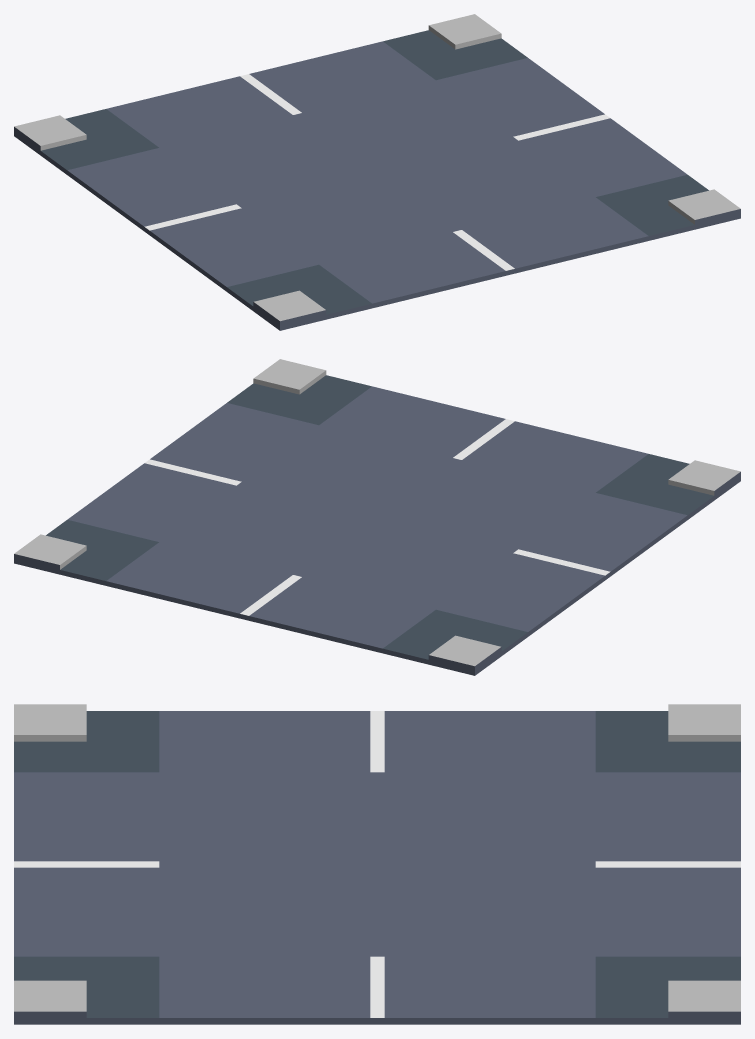
Rendered from SM_Road_Crossroad.fbx.
3 views of the same model, one above another, from view 1: azimuth 30°, elevation 25°; view 2: azimuth 150°, elevation 25°; view 3: azimuth 270°, elevation 25° (orthographic). The views are drawn at different scales.
Visible parts, largest first — view 1: SM_Road_Crossroad; view 2: SM_Road_Crossroad; view 3: SM_Road_Crossroad.
Part boxes in pixels (box(x1,y1,x2,y2)): SM_Road_Crossroad: box(14, 14, 740, 330); SM_Road_Crossroad: box(14, 359, 740, 675); SM_Road_Crossroad: box(14, 704, 740, 1024).
Bounding box in the file's own units: 1000 × 20 × 1000.
